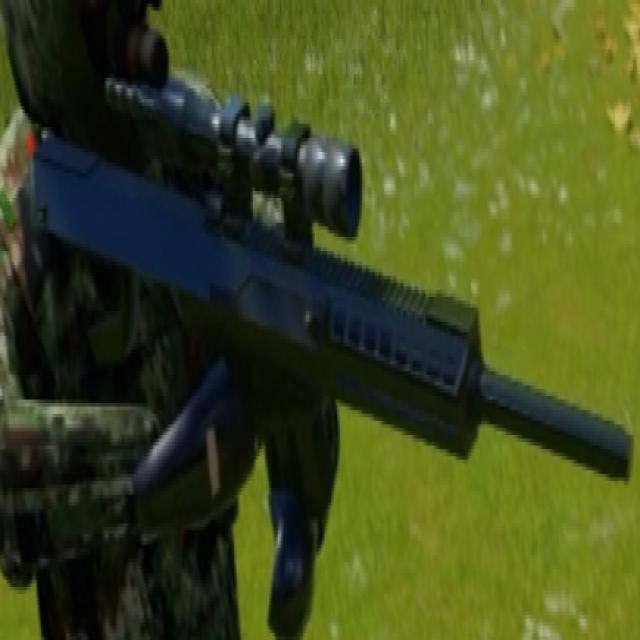Rifle: (24, 53, 638, 521)
